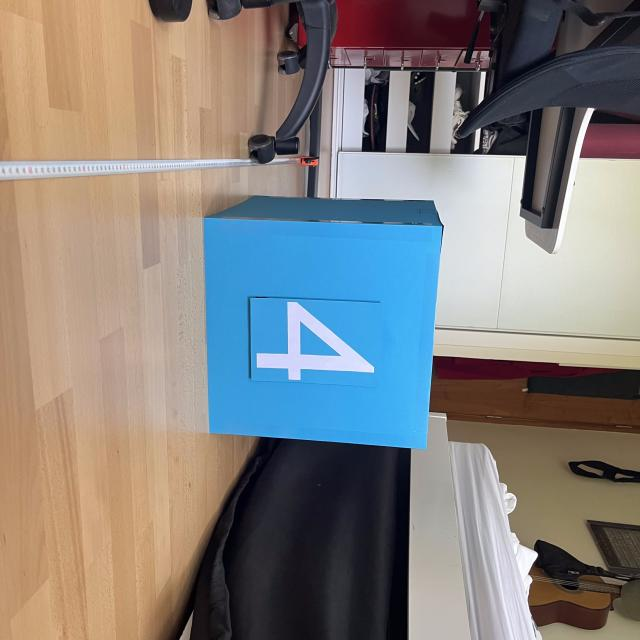box: (198, 191, 446, 451)
